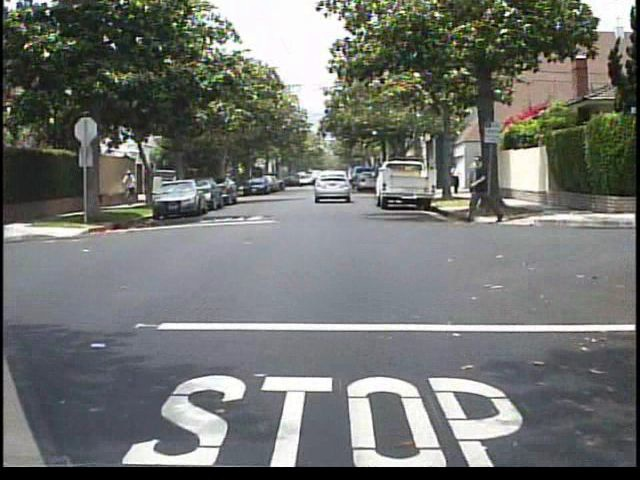person: (457, 152, 505, 227), (120, 167, 142, 204), (169, 169, 186, 202), (450, 160, 463, 198)
